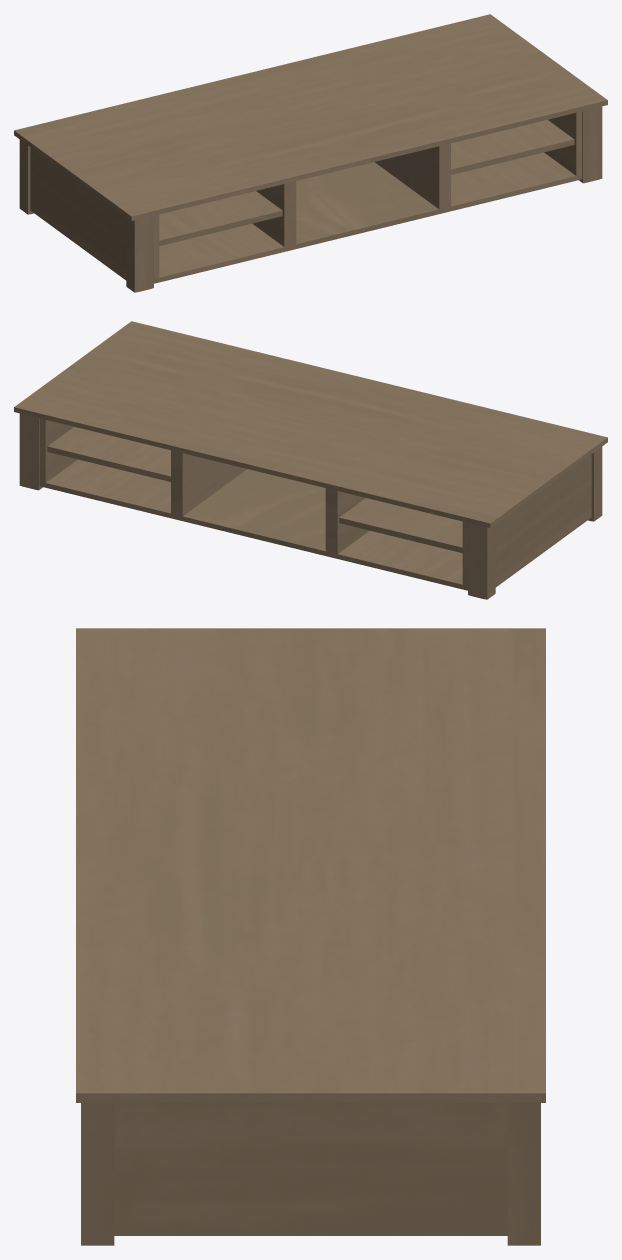
The model's file is Living_room_table.fbx.
The picture shows the model from 3 angles, top to bottom: view 1: azimuth 30°, elevation 25°; view 2: azimuth 150°, elevation 25°; view 3: azimuth 270°, elevation 25°; orthographic projection. The views are drawn at different scales.
Parts seen in each view (by area): view 1: Living_room_table; view 2: Living_room_table; view 3: Living_room_table.
Part boxes in pixels (left/top/right/bottom): Living_room_table: left=14, top=14, right=607, bottom=292; Living_room_table: left=14, top=321, right=607, bottom=599; Living_room_table: left=76, top=628, right=545, bottom=1245.
Size of the model in its own units: 234 by 37.02 by 100.
